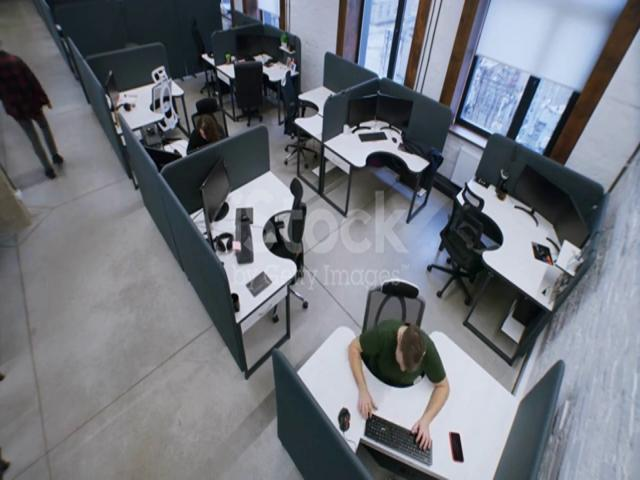empty chair: (260, 171, 310, 316), (438, 181, 485, 308), (235, 48, 269, 128), (138, 50, 162, 138), (186, 10, 214, 80), (279, 76, 305, 150)
occupiedchair: (364, 263, 434, 392), (184, 94, 231, 171)
